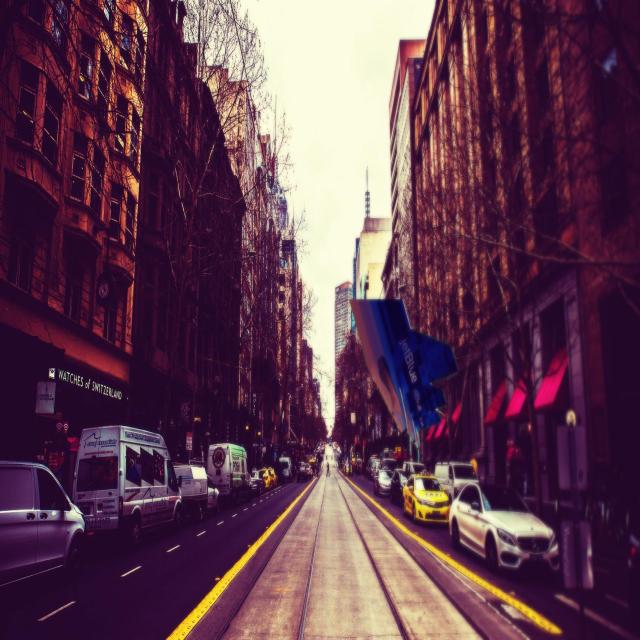airplane: (349, 298, 458, 454)
